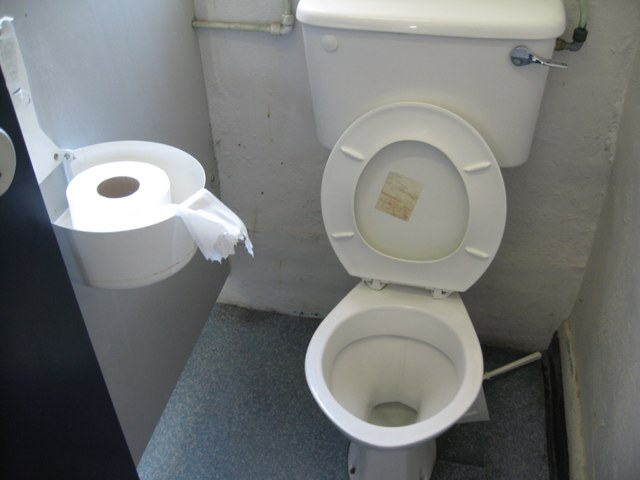toilet_paper: (66, 160, 253, 265)
